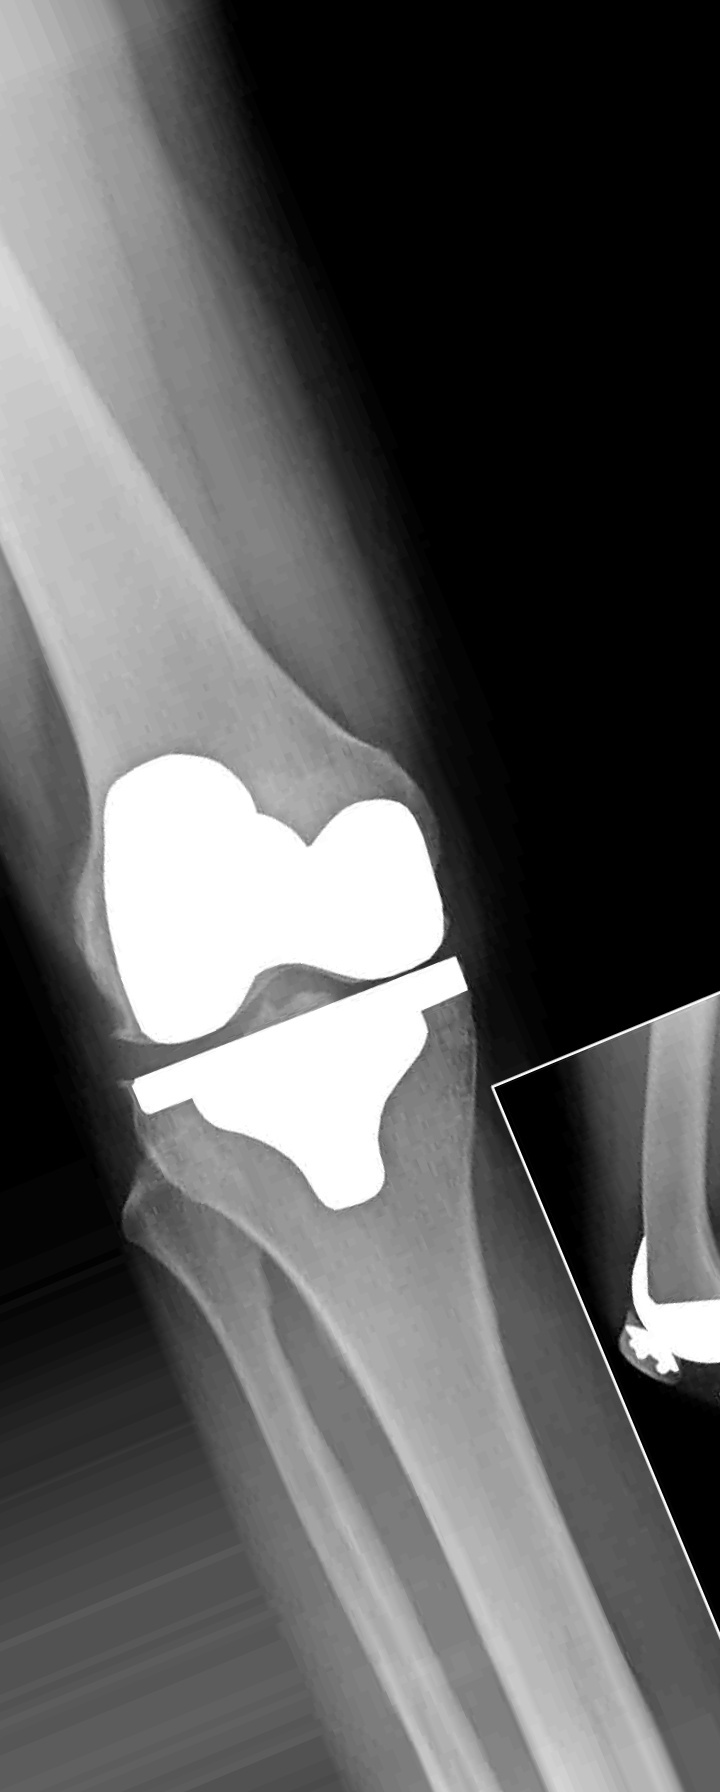Knee-TriathlonTritanium-Stryker: (79, 715, 473, 1214), (614, 1221, 720, 1381)
